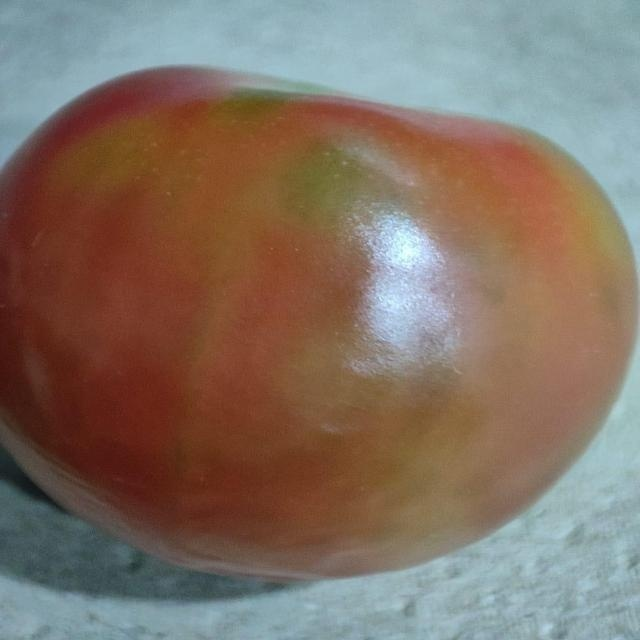T_F_H: (1, 66, 637, 582)
